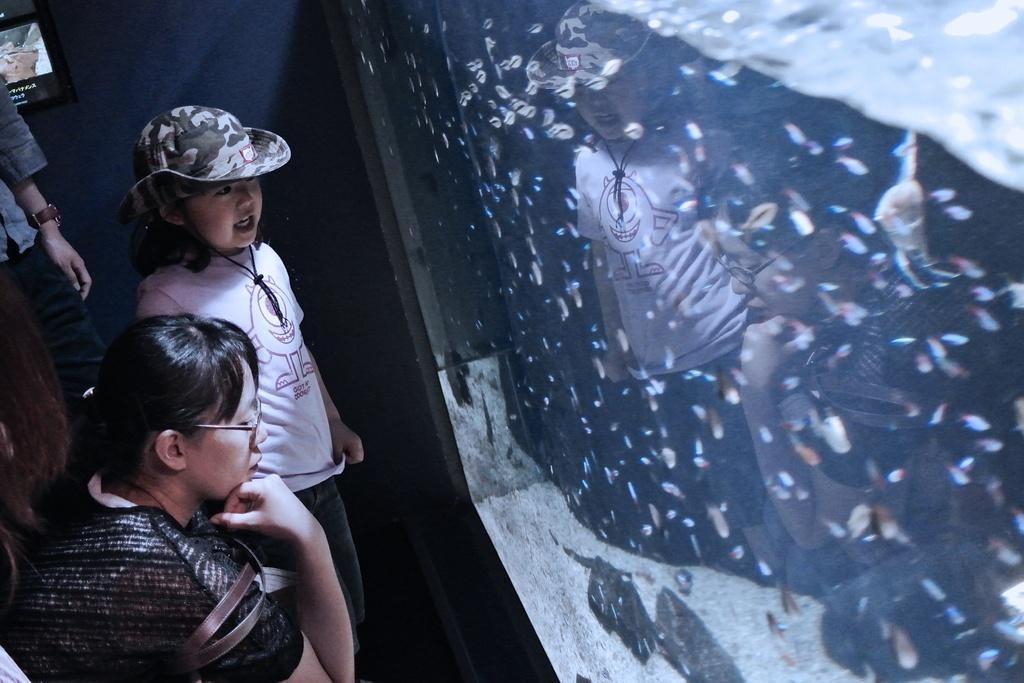Hat: (112, 105, 292, 216)
